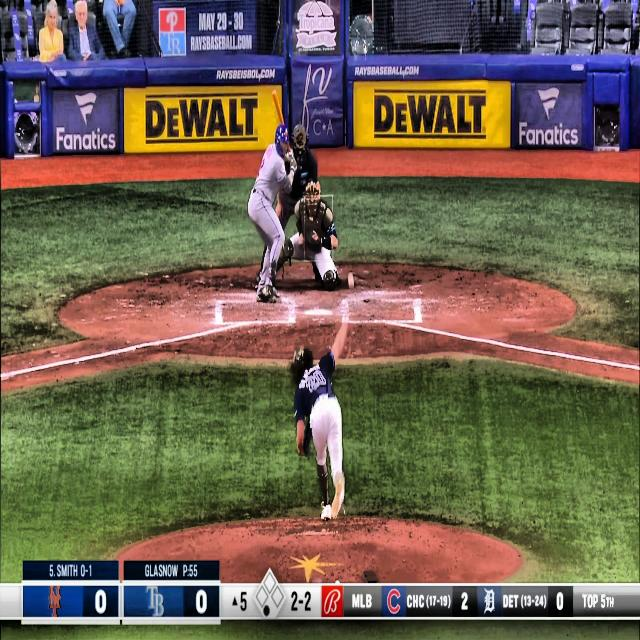baseball: (347, 271, 356, 290)
